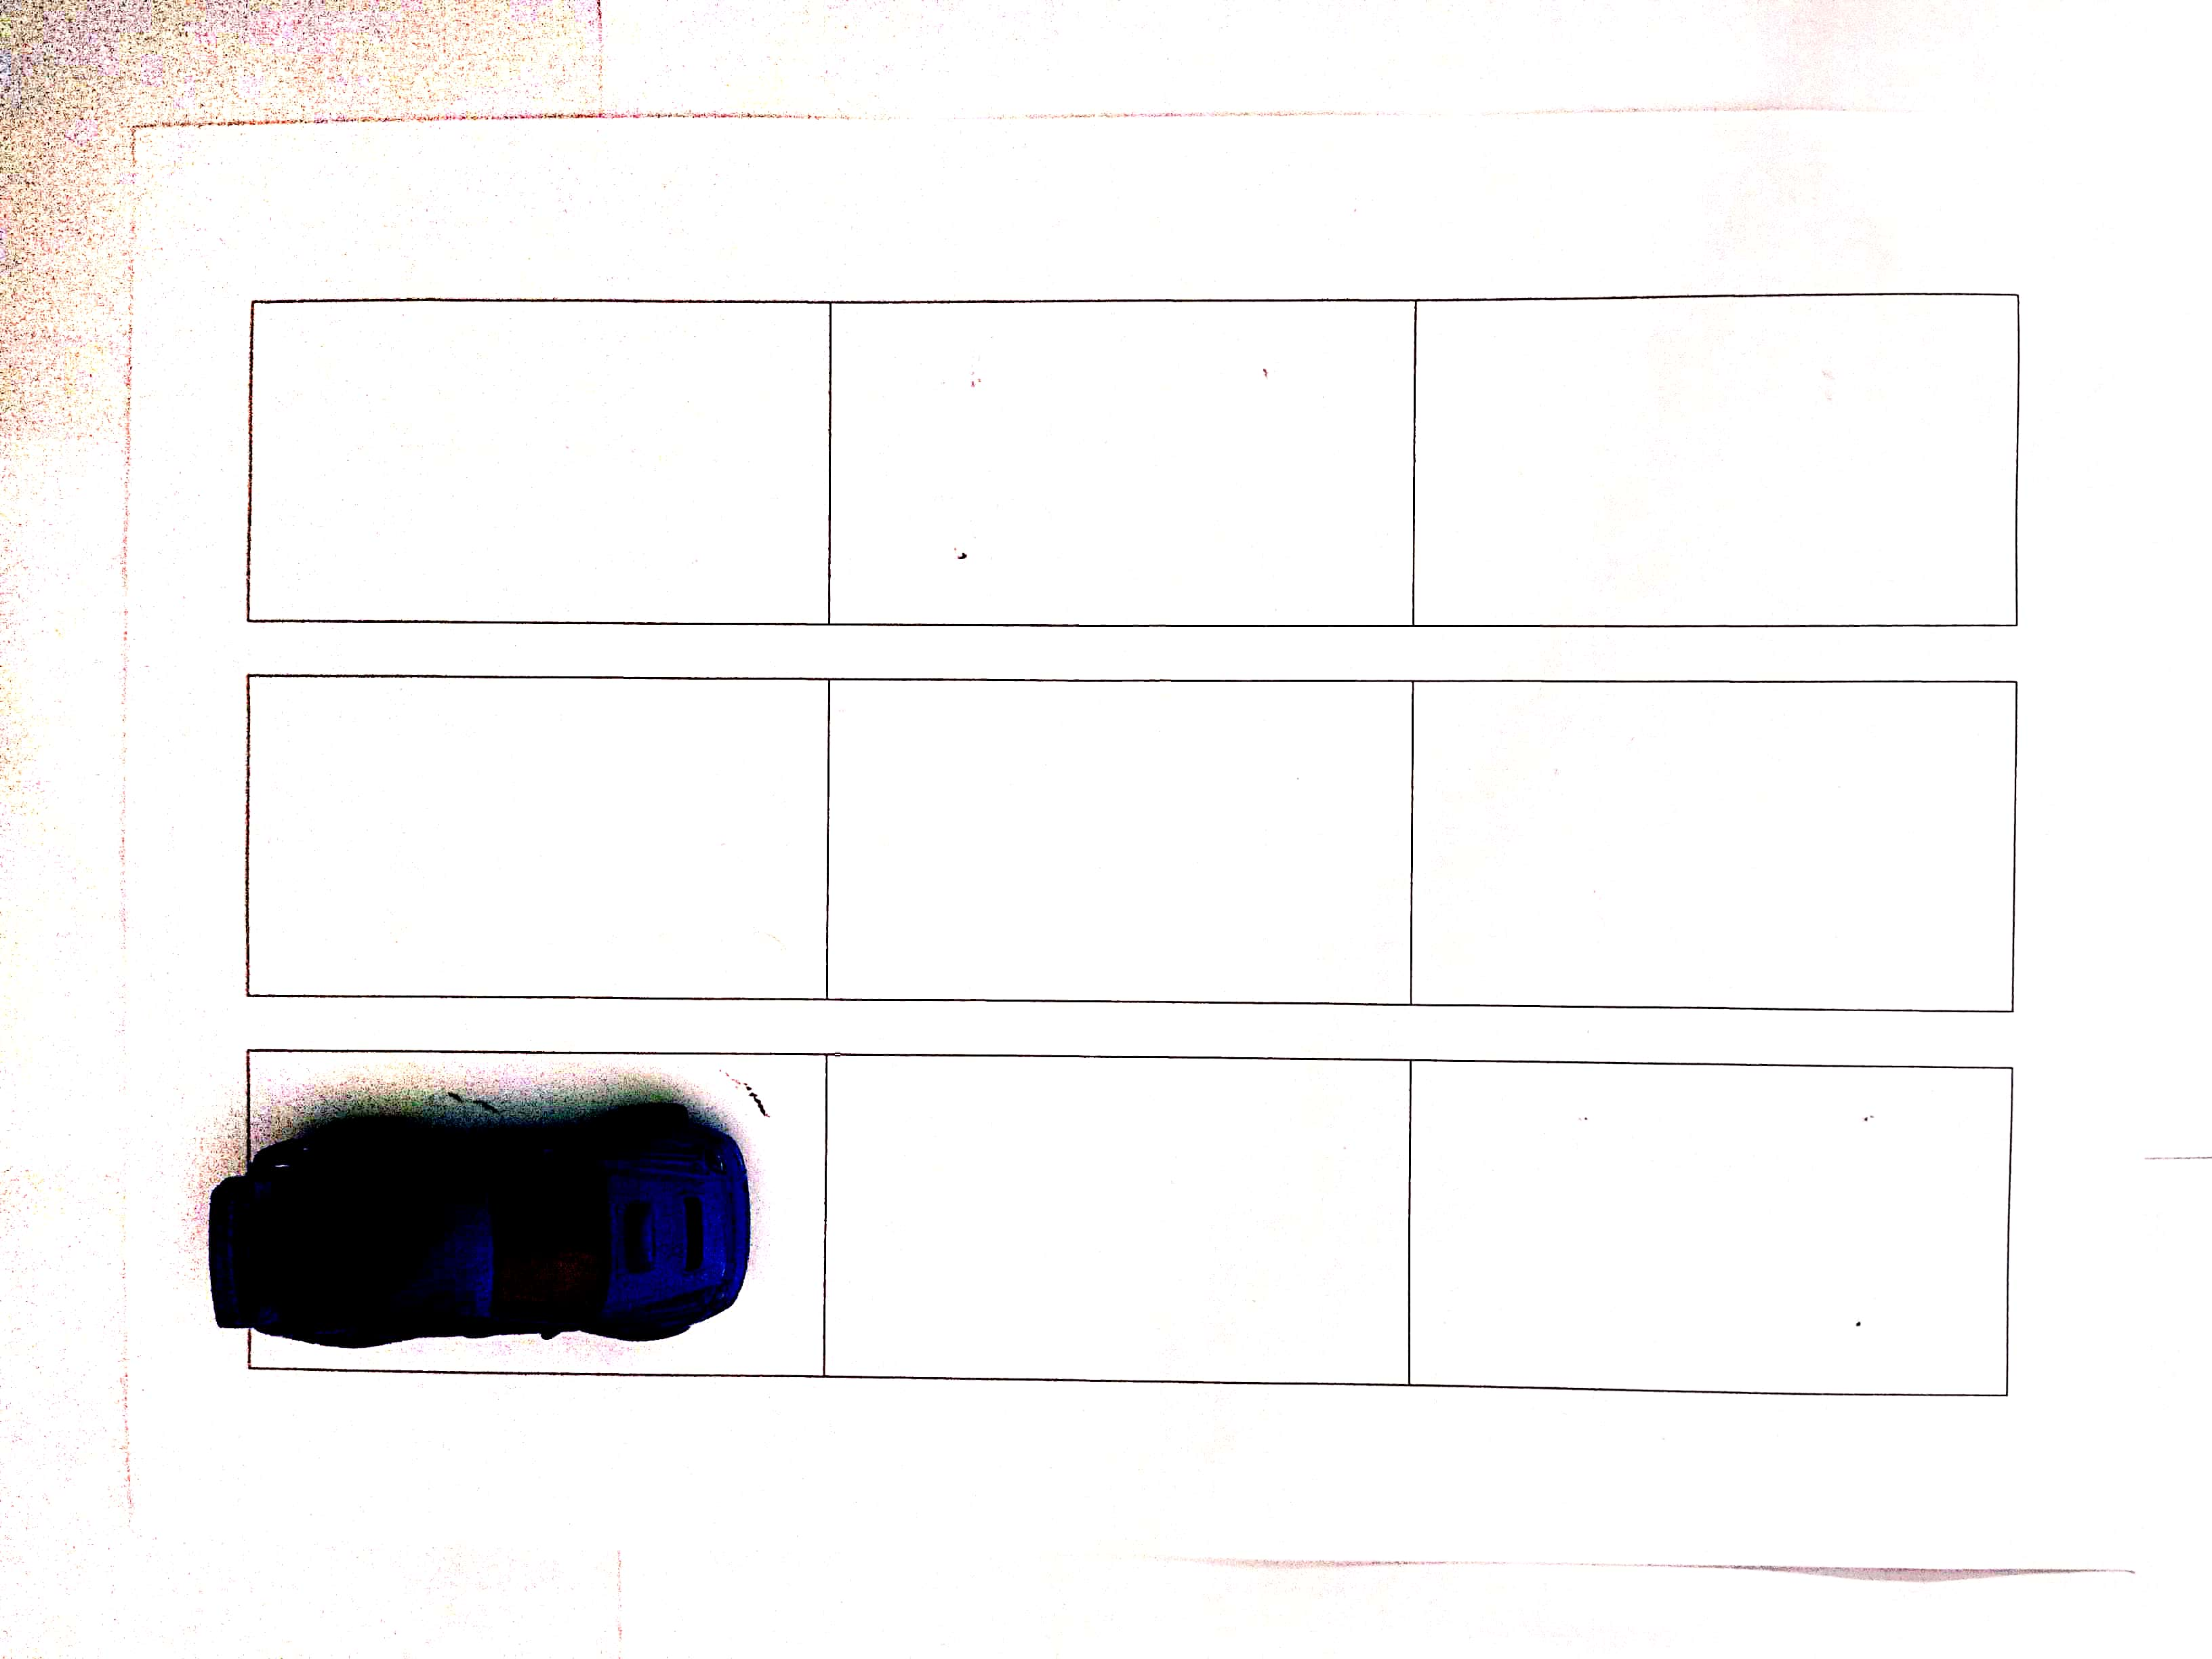Busy: (247, 1049, 824, 1371)
Free: (1413, 293, 2013, 619), (1413, 1065, 2008, 1391), (1413, 678, 2012, 1000), (822, 1058, 1413, 1380), (247, 674, 827, 995), (829, 678, 1413, 995), (247, 301, 827, 620), (827, 303, 1413, 619)
